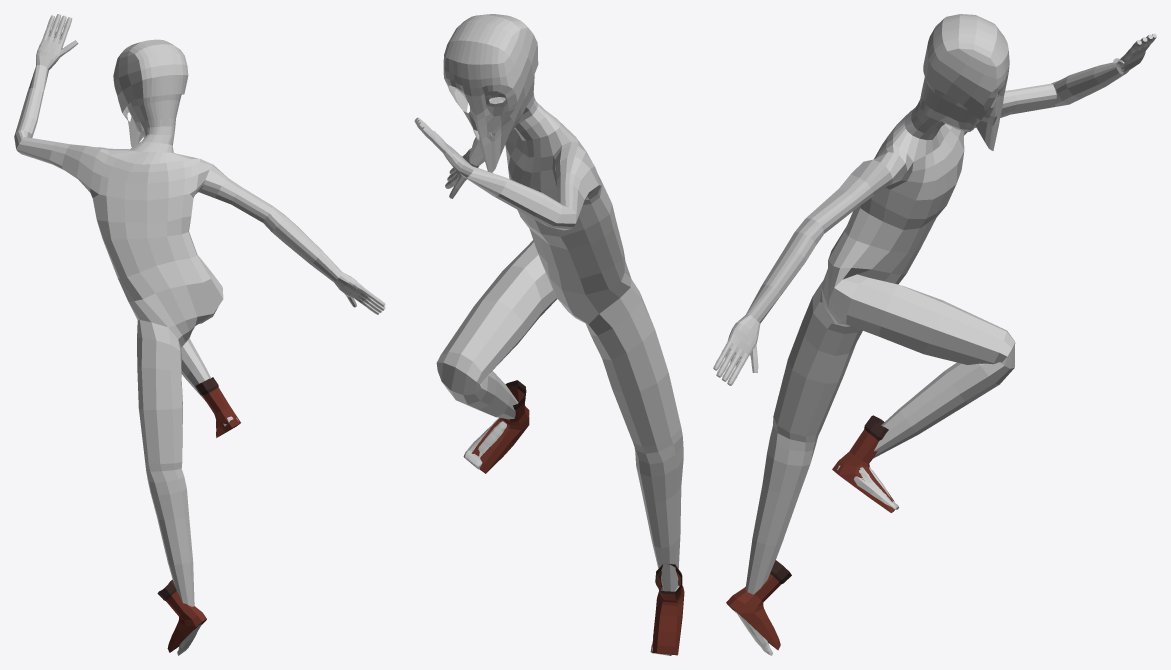
File: saltoadelante_000105.obj
The picture shows the model from 3 angles, left to right: view 1: azimuth 30°, elevation 25°; view 2: azimuth 150°, elevation 25°; view 3: azimuth 270°, elevation 25°; orthographic projection. The views are drawn at different scales.
Parts seen in each view (by area): view 1: Plane.002_Plane.001, Plane.004, Plane.003; view 2: Plane.002_Plane.001, Plane.004, Plane.003; view 3: Plane.002_Plane.001, Plane.003, Plane.004.
Part boxes in pixels (x1=…): Plane.002_Plane.001: x1=14, y1=14, x2=385, y2=655; Plane.004: x1=157, y1=579, x2=206, y2=652; Plane.003: x1=195, y1=377, x2=240, y2=437; Plane.002_Plane.001: x1=414, y1=14, x2=683, y2=655; Plane.004: x1=652, y1=563, x2=684, y2=655; Plane.003: x1=471, y1=380, x2=529, y2=473; Plane.002_Plane.001: x1=713, y1=14, x2=1156, y2=655; Plane.003: x1=832, y1=415, x2=894, y2=512; Plane.004: x1=726, y1=560, x2=791, y2=650.
Size of the model in its own units: 3.25 by 7.17 by 4.34.
